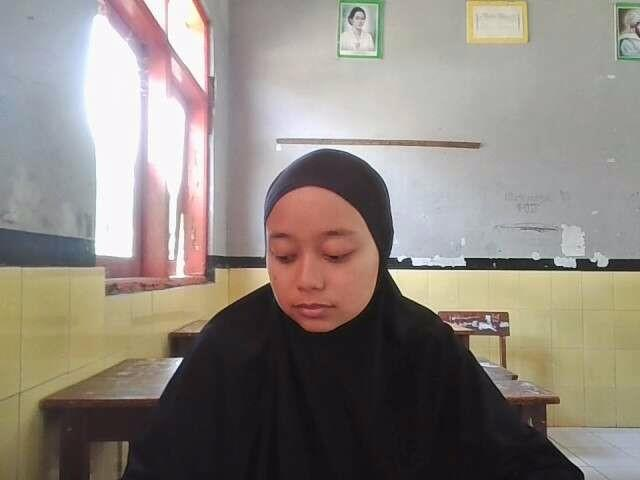good: (108, 139, 599, 480)
